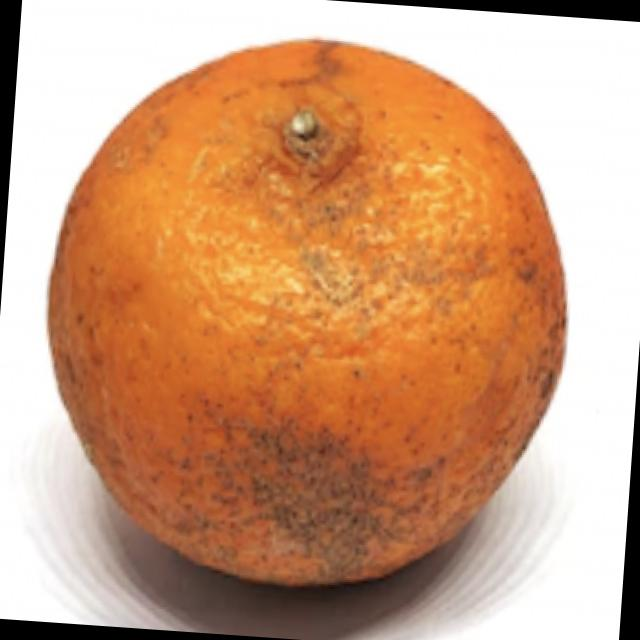rotten-orange: (28, 17, 588, 605)
